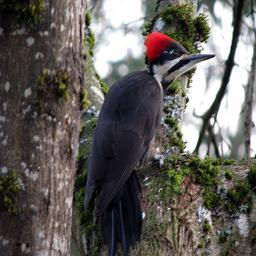Woodpecker: (78, 29, 218, 250)
